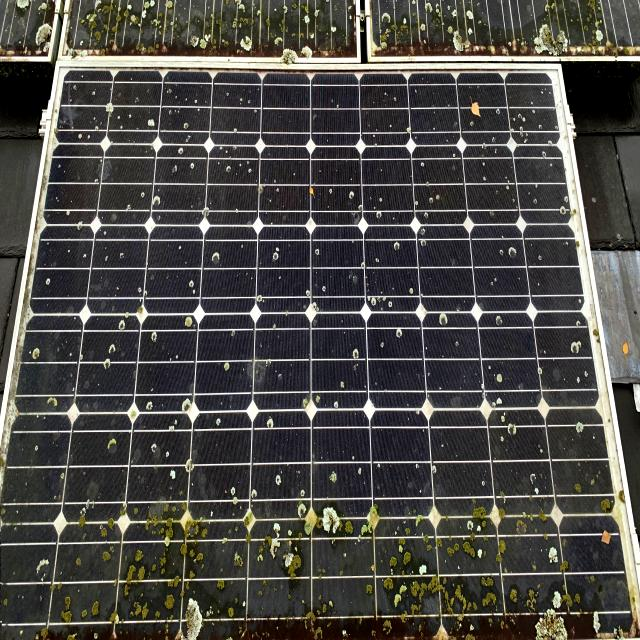bird: (429, 484, 519, 622), (373, 532, 430, 601), (178, 506, 226, 582), (254, 528, 307, 596), (120, 534, 170, 598), (96, 306, 134, 379), (537, 576, 575, 640), (64, 582, 104, 638), (75, 496, 105, 554), (429, 300, 454, 348), (468, 89, 491, 139), (100, 424, 126, 466), (99, 430, 125, 468), (216, 346, 242, 384), (594, 468, 614, 514), (324, 341, 362, 364), (26, 328, 44, 376), (544, 538, 568, 574), (562, 329, 585, 365), (205, 242, 224, 268)
